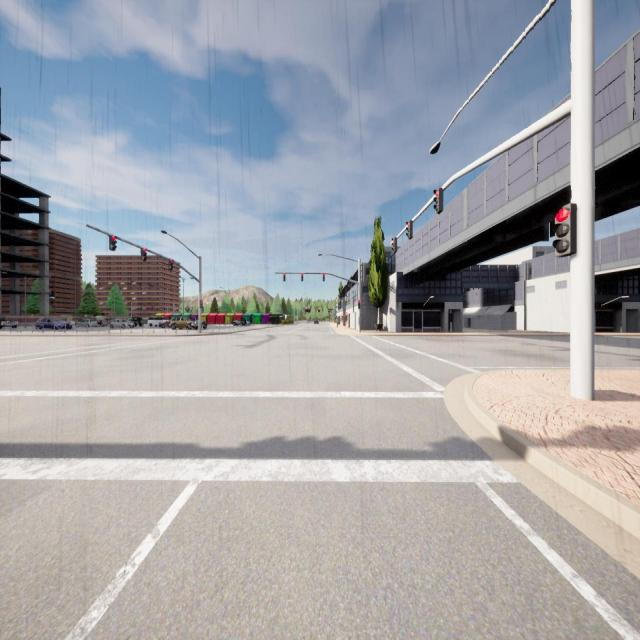Pedestrian: (336, 316, 339, 328)
Vehicle: (35, 316, 72, 330), (170, 314, 192, 330), (75, 316, 98, 328), (110, 318, 134, 329), (148, 316, 168, 328), (0, 317, 18, 329), (190, 319, 207, 330), (233, 318, 246, 326), (132, 317, 142, 327), (97, 320, 104, 327), (314, 320, 319, 325), (246, 320, 250, 326)
traffic_light: (552, 204, 577, 258), (434, 188, 444, 214), (406, 220, 412, 239), (109, 236, 117, 250), (392, 237, 397, 253), (141, 248, 147, 261), (168, 259, 174, 270), (283, 272, 286, 282), (200, 300, 203, 308), (301, 272, 303, 282), (323, 272, 325, 282), (358, 300, 360, 309)
